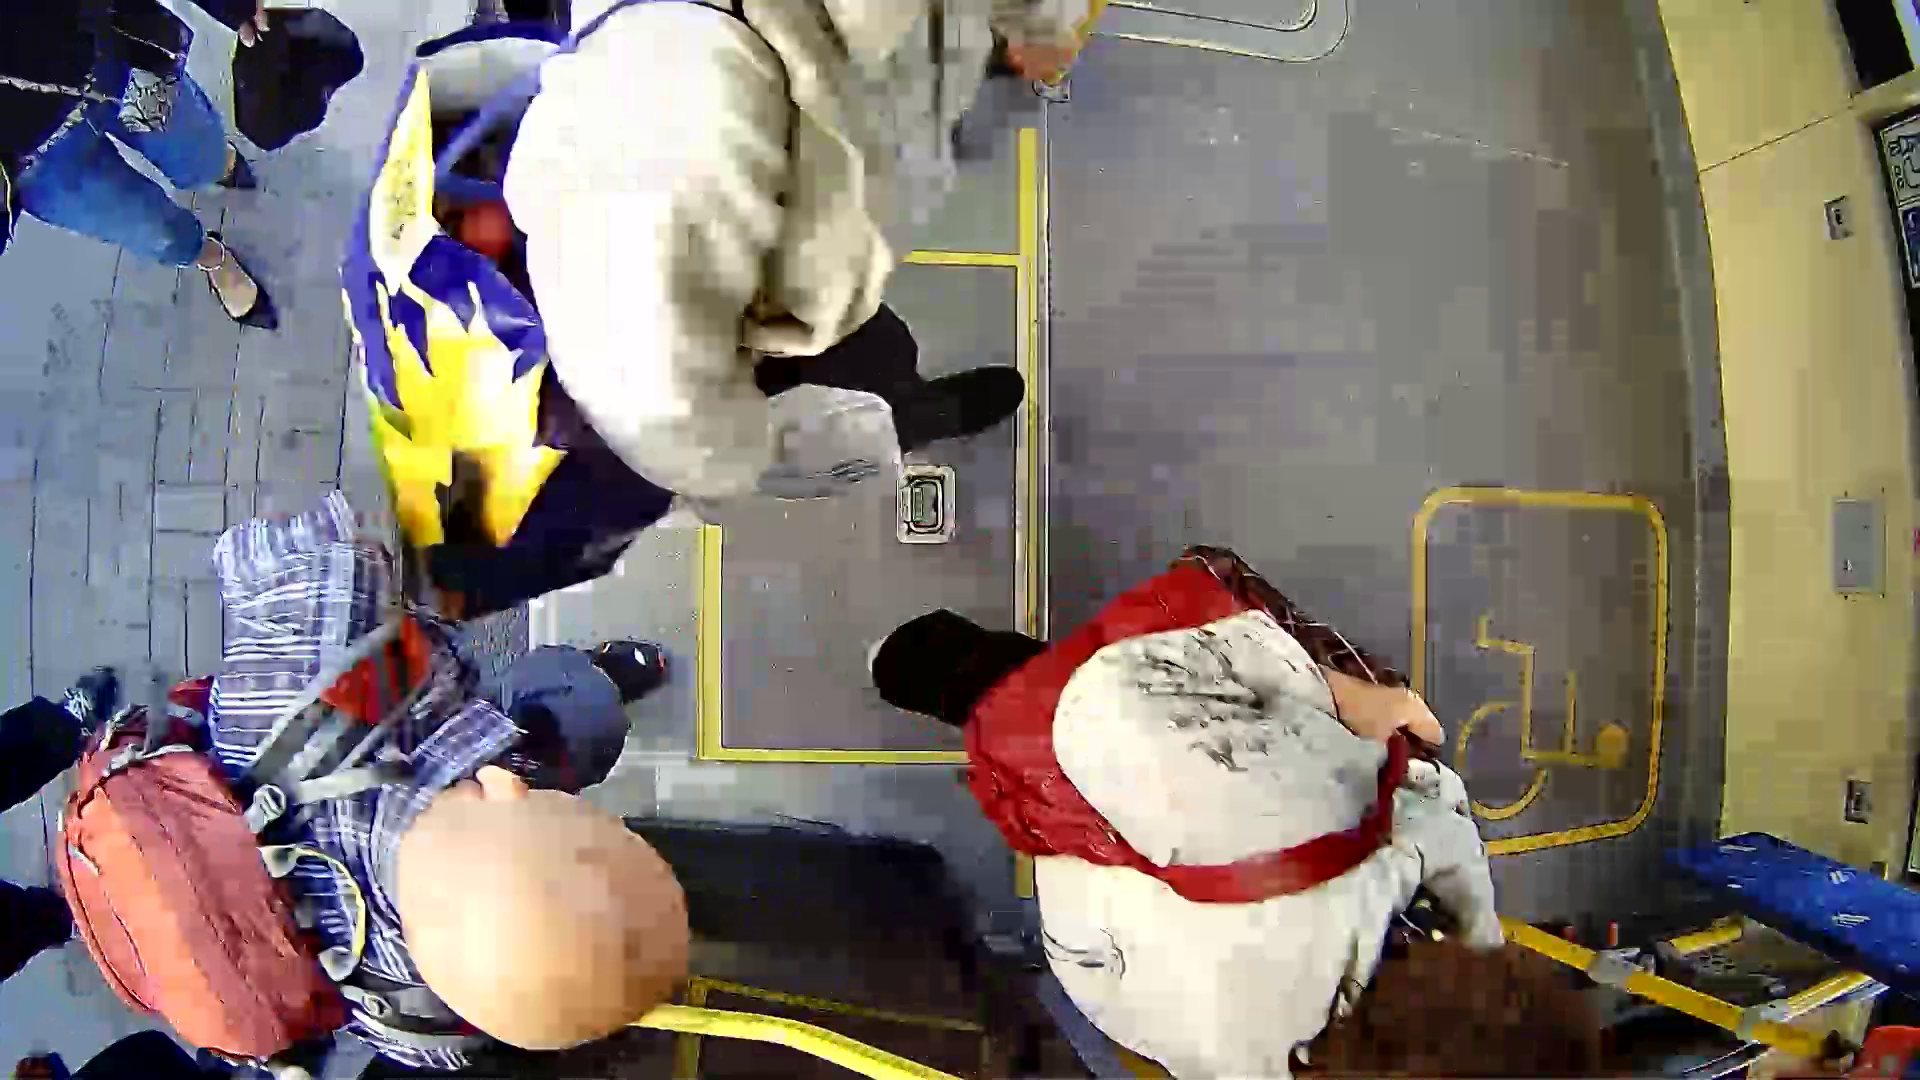person: (369, 1, 1187, 535), (959, 535, 1543, 1047), (96, 603, 780, 1032)
